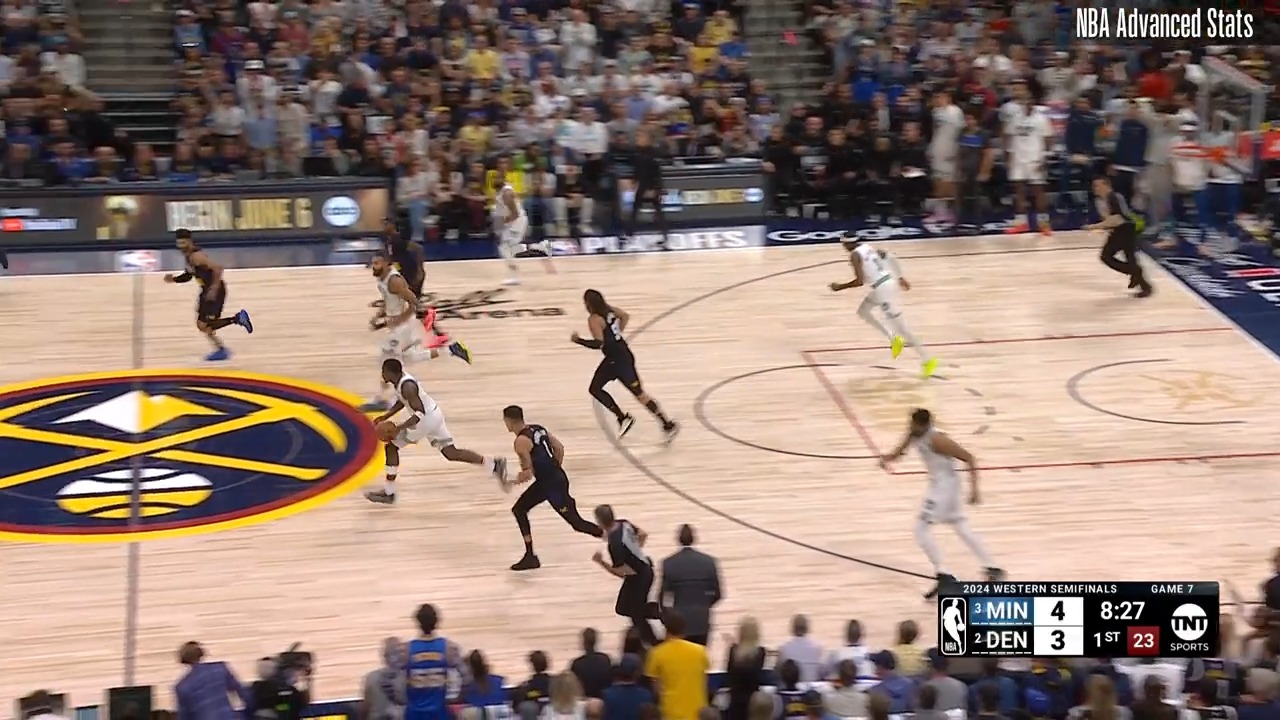basketball: (374, 418, 399, 443)
